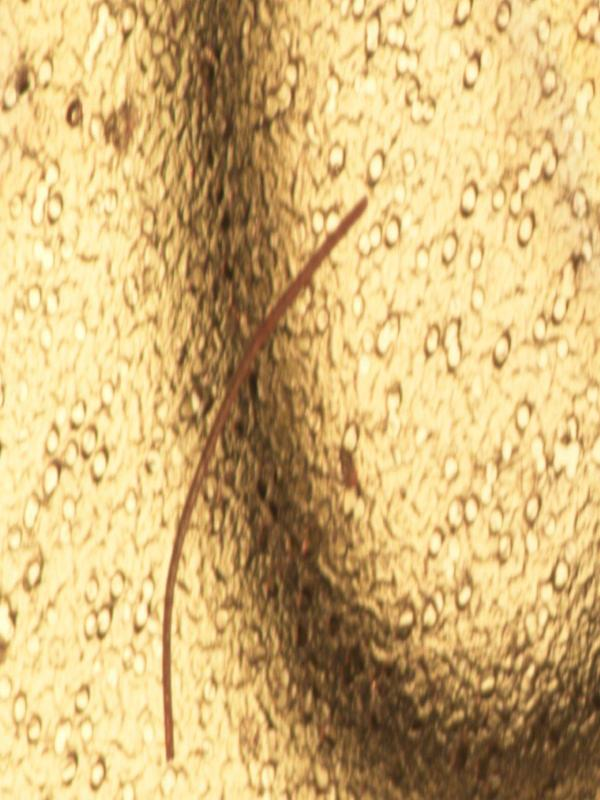microplastic: (1, 1, 598, 797), (160, 189, 369, 762)
